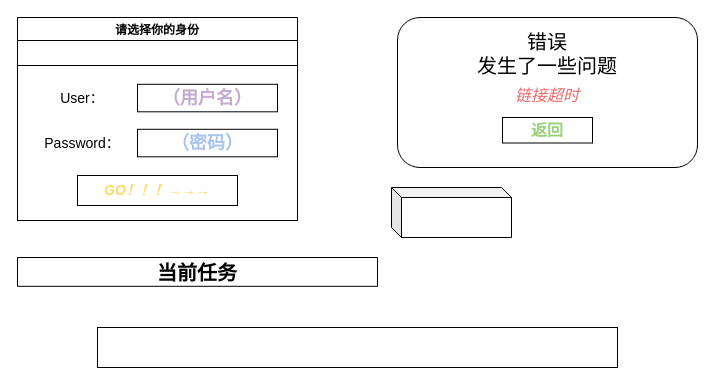
Some shapes in this 715 by 385 pixel diagram are drawn without their labels. The shapes that lost their labels are listed below. From the top down, each one's box as (x1, y1, x2, y2) in pixels, then its label:
(16, 40, 298, 66): 请输入您的用户信息
(390, 186, 512, 238): 提交任务
(96, 326, 618, 368): 这页是一些小素材
